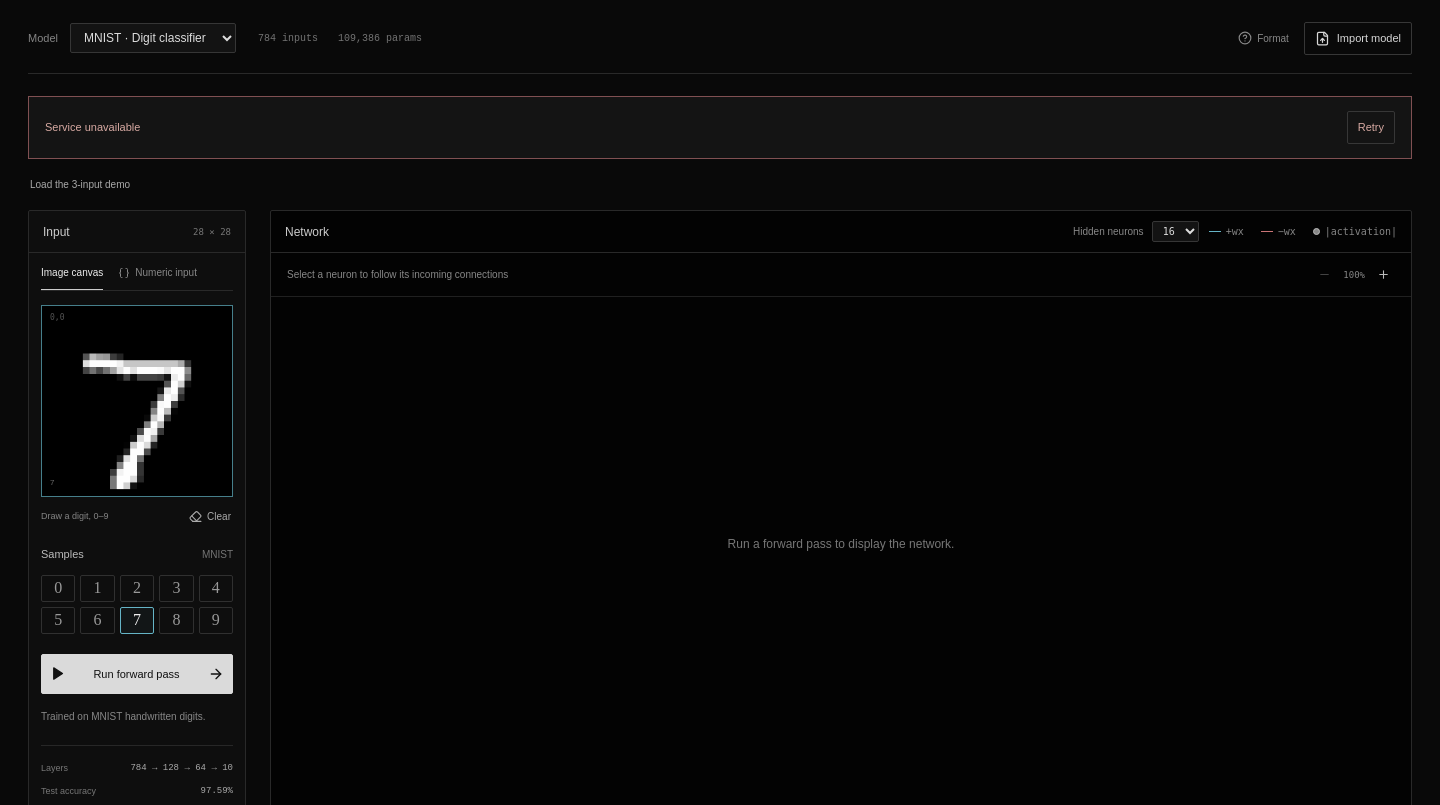
Test: keeps bundled models and format access when startup fails, and retries startup
Check: the message "Service unavailable Retry" is shown, box [28, 96, 1412, 159]
Check: the button "Format" is shown, box [1236, 29, 1291, 48]
Click the button "Retry" at (1371, 127), box [1347, 110, 1395, 144]
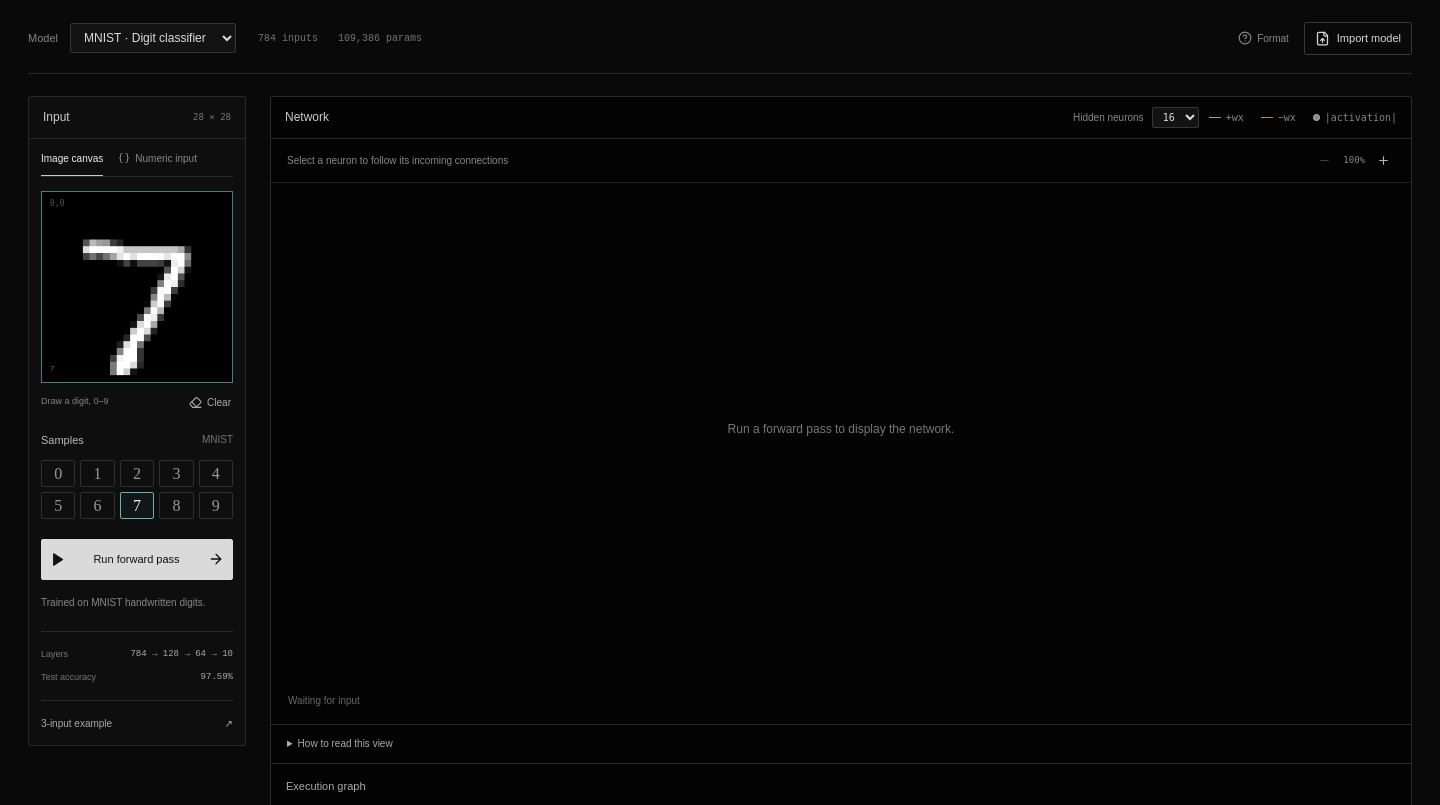
Check: the message "Service unavailable Retry" is gone
